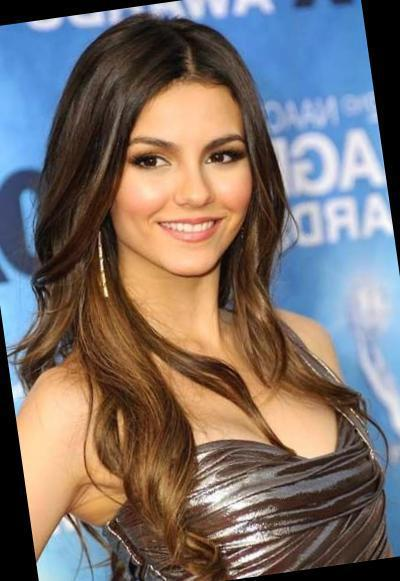Sober: (113, 95, 252, 268)
